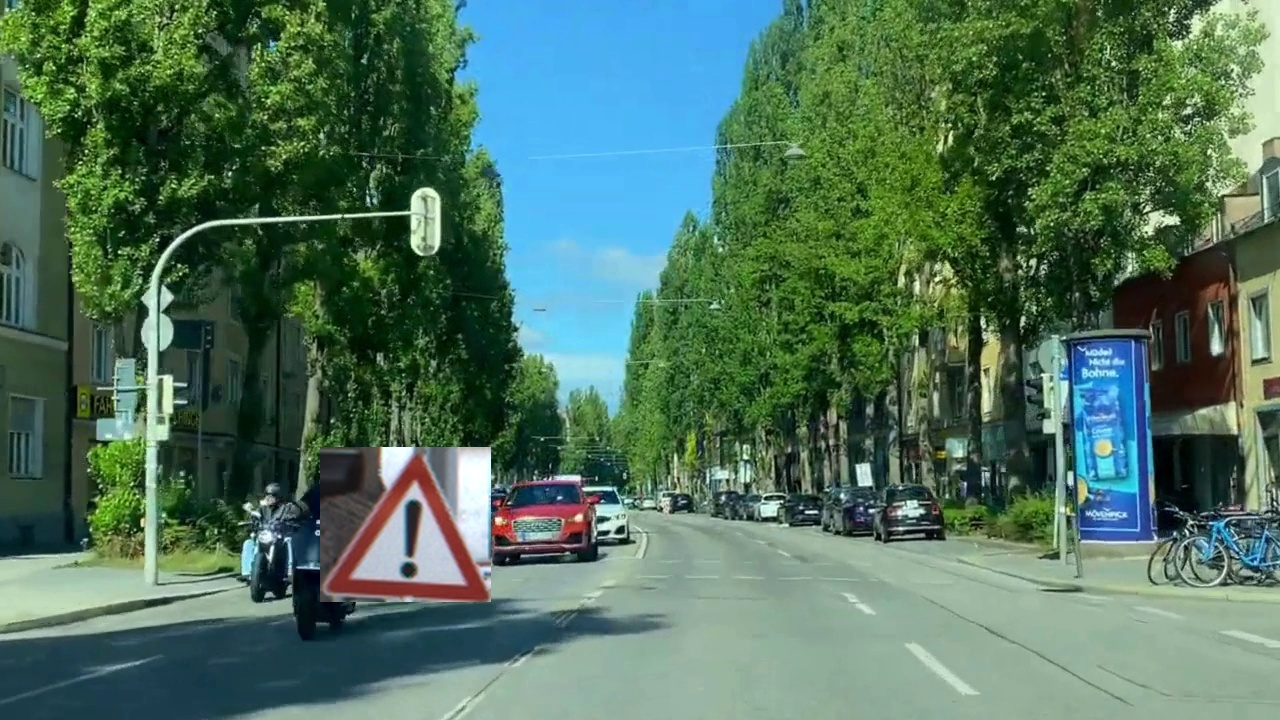Caution: (320, 447, 491, 602)
